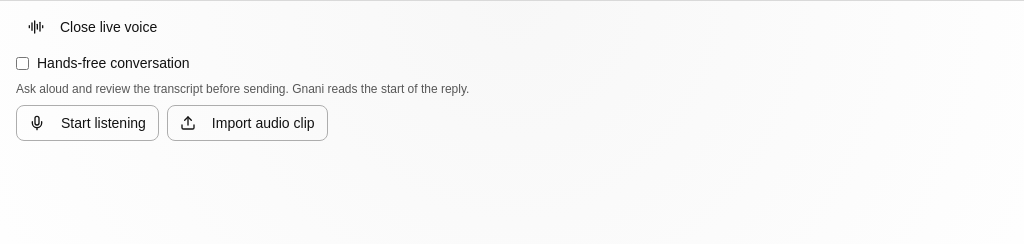
Test: live voice chat › keeps the default transcript editable before sending
Click the button "Start listening": (87, 123) [16, 105, 159, 141]
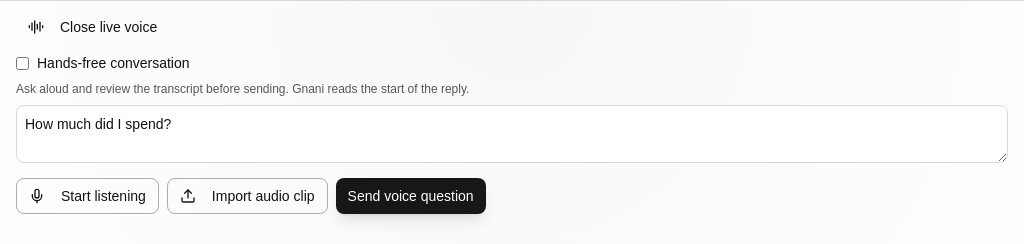
Expected: the text box named "Voice transcript" holds "How much did I spend?", [16, 105, 1008, 163]
